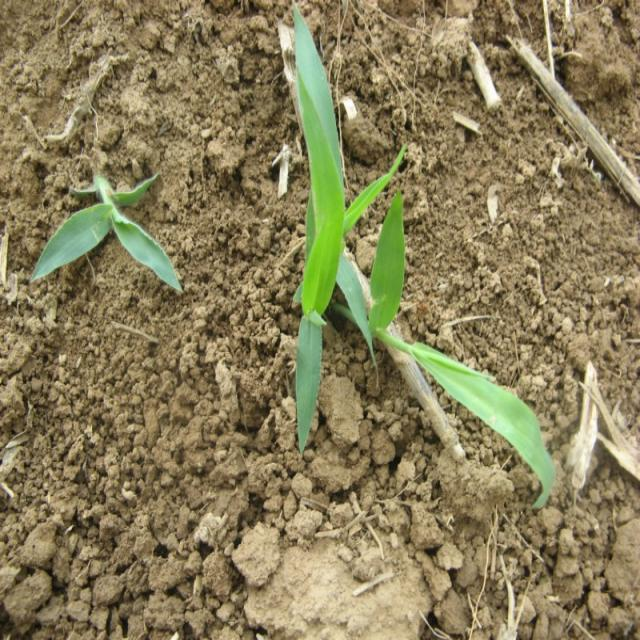bg: (286, 9, 553, 503)
